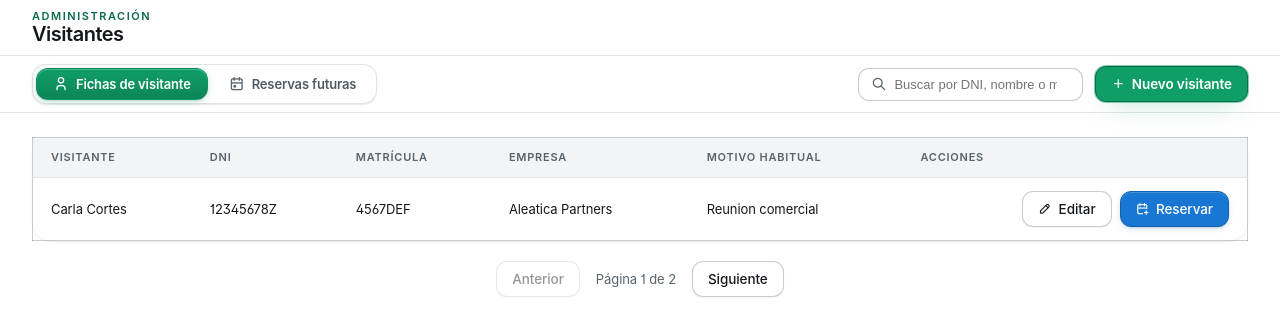
Test case: VisitorsPage (ADMIN) › should_change_page_when_navigating_visitors_pagination
Check: the text "Carla Cortes" is shown, box x1=32 y1=178 x2=192 y2=240
Click the button "Siguiente". click: x=738, y=279
box: x1=692 y1=261 x2=784 y2=297
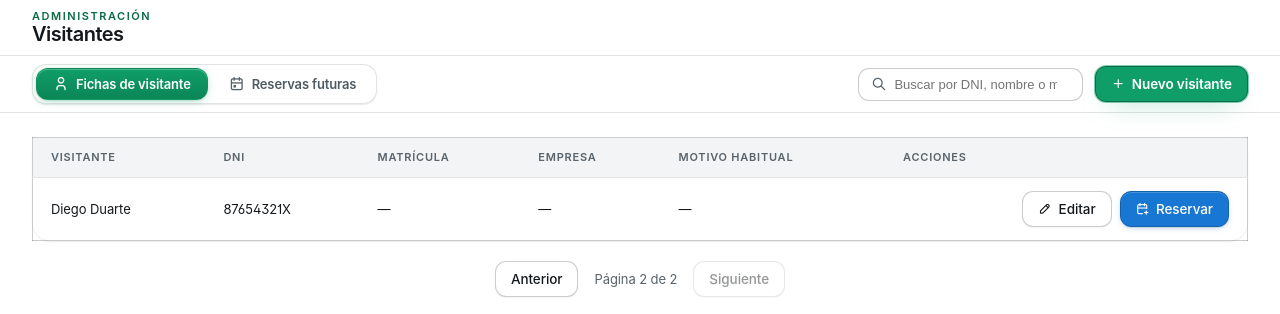
Check: the text "Diego Duarte" is shown, box x1=32 y1=178 x2=205 y2=240
